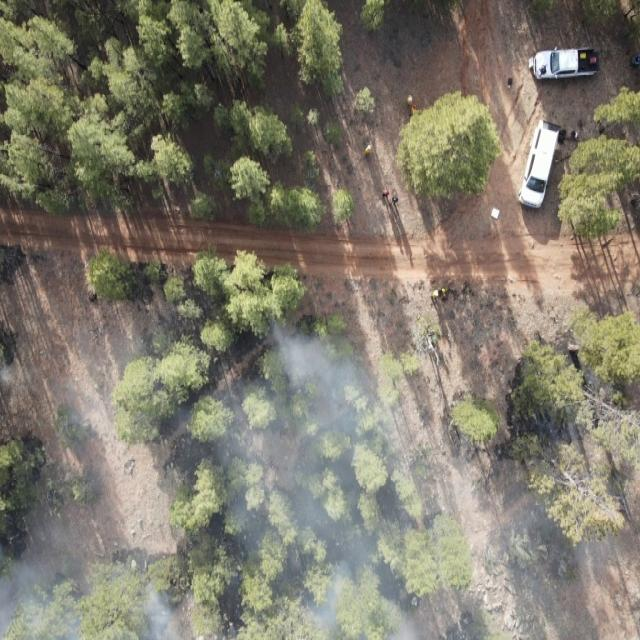smoke: (0, 304, 372, 640), (373, 374, 640, 640)
